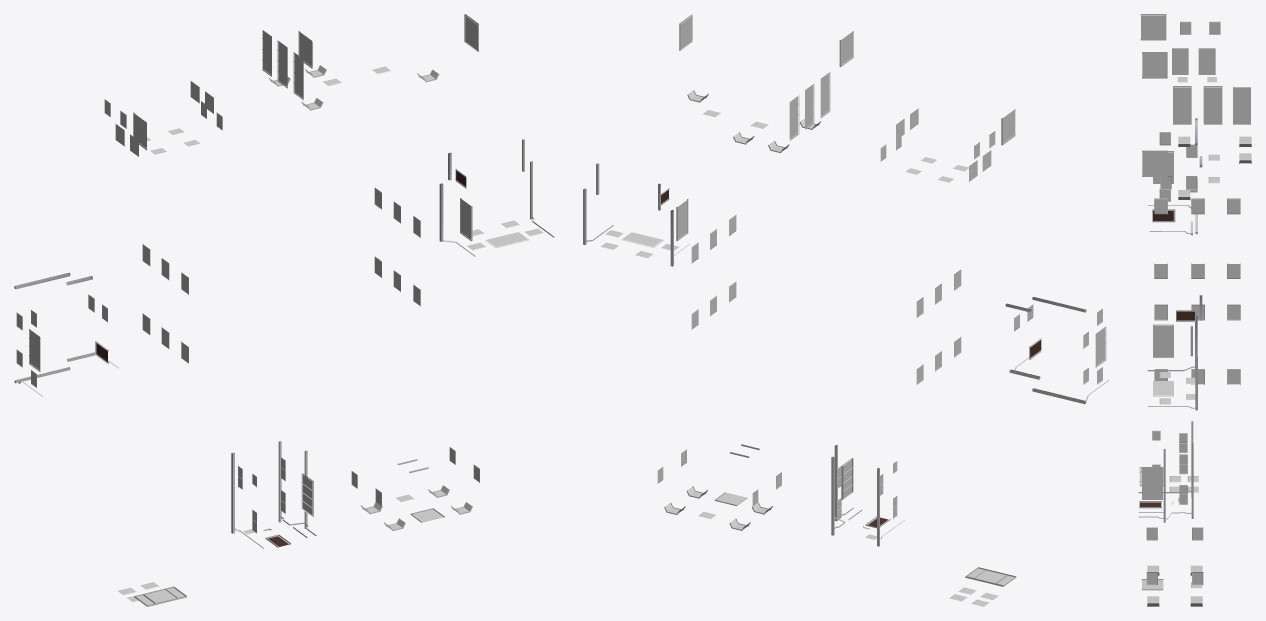
3 renders of one model, left to right at view 1: azimuth 30°, elevation 25°; view 2: azimuth 150°, elevation 25°; view 3: azimuth 270°, elevation 25°, orthographic. The views are drawn at different scales.
Parts seen in each view (by area): view 1: SM_000284.001; view 2: SM_000284.001; view 3: SM_000284.001.
Part boxes in pixels (x1,y1,x2,y2): SM_000284.001: (14, 14, 554, 606); SM_000284.001: (583, 14, 1109, 606); SM_000284.001: (1138, 14, 1251, 606).
Bounding box in the file's own units: 52.87 × 51.89 × 10.67.
